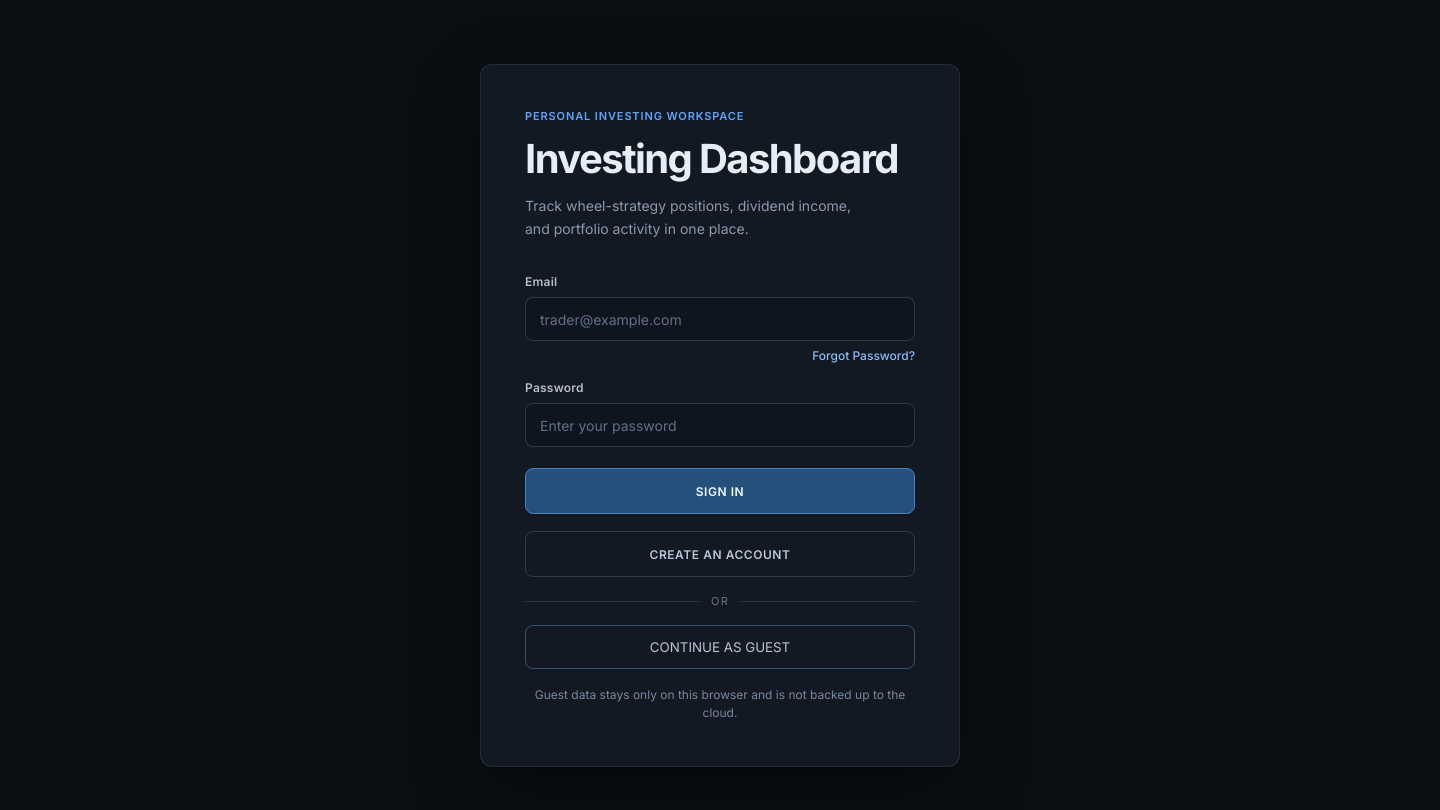
Scenario: renders the neutral success message after an accepted reset request
The image size is (1440, 810).
Step 1. Click the button "Forgot Password?" → (864, 356), box [812,348,915,363]
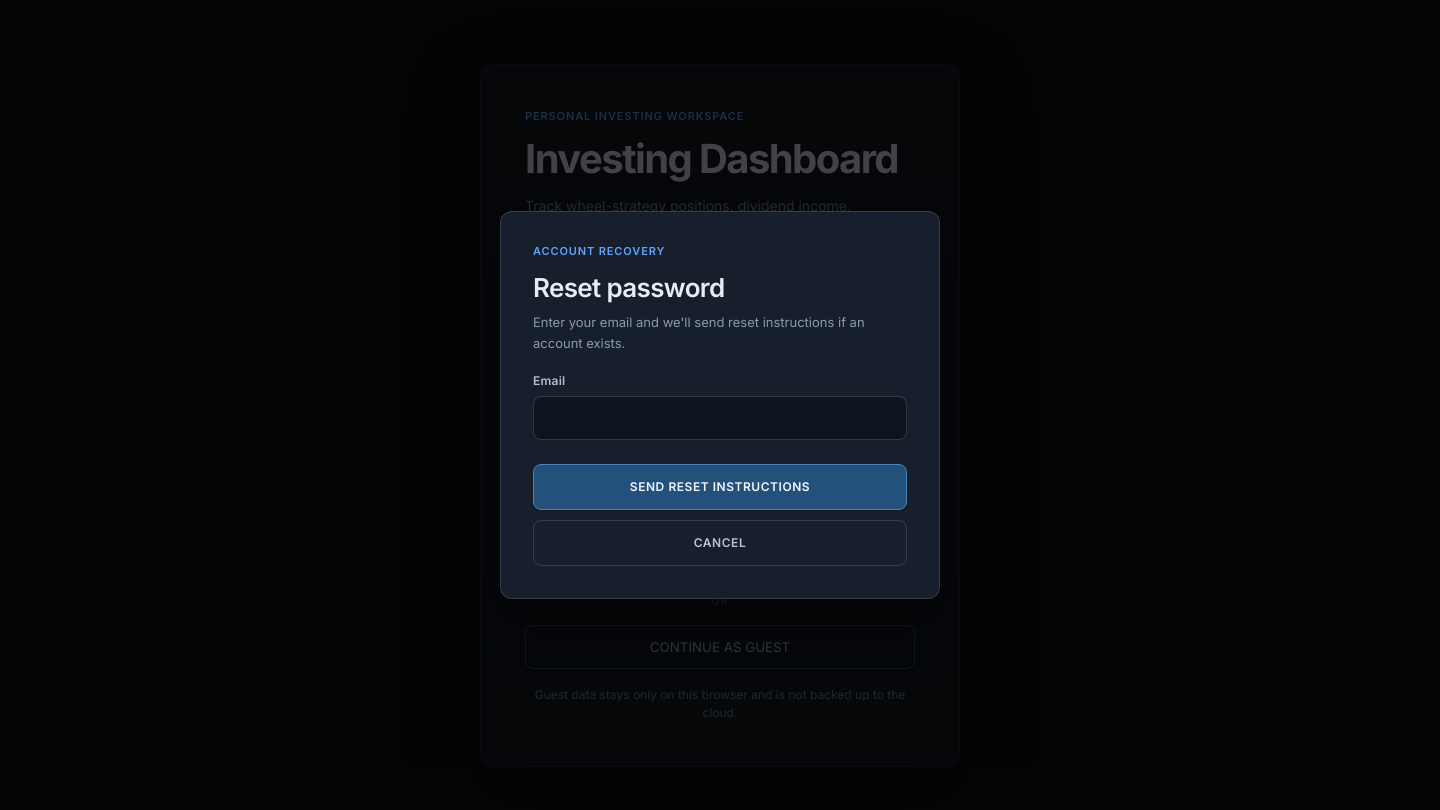
Step 2. Type "unknown@example.com" into the field labelled "Email" → (720, 418), box [533,396,907,440]
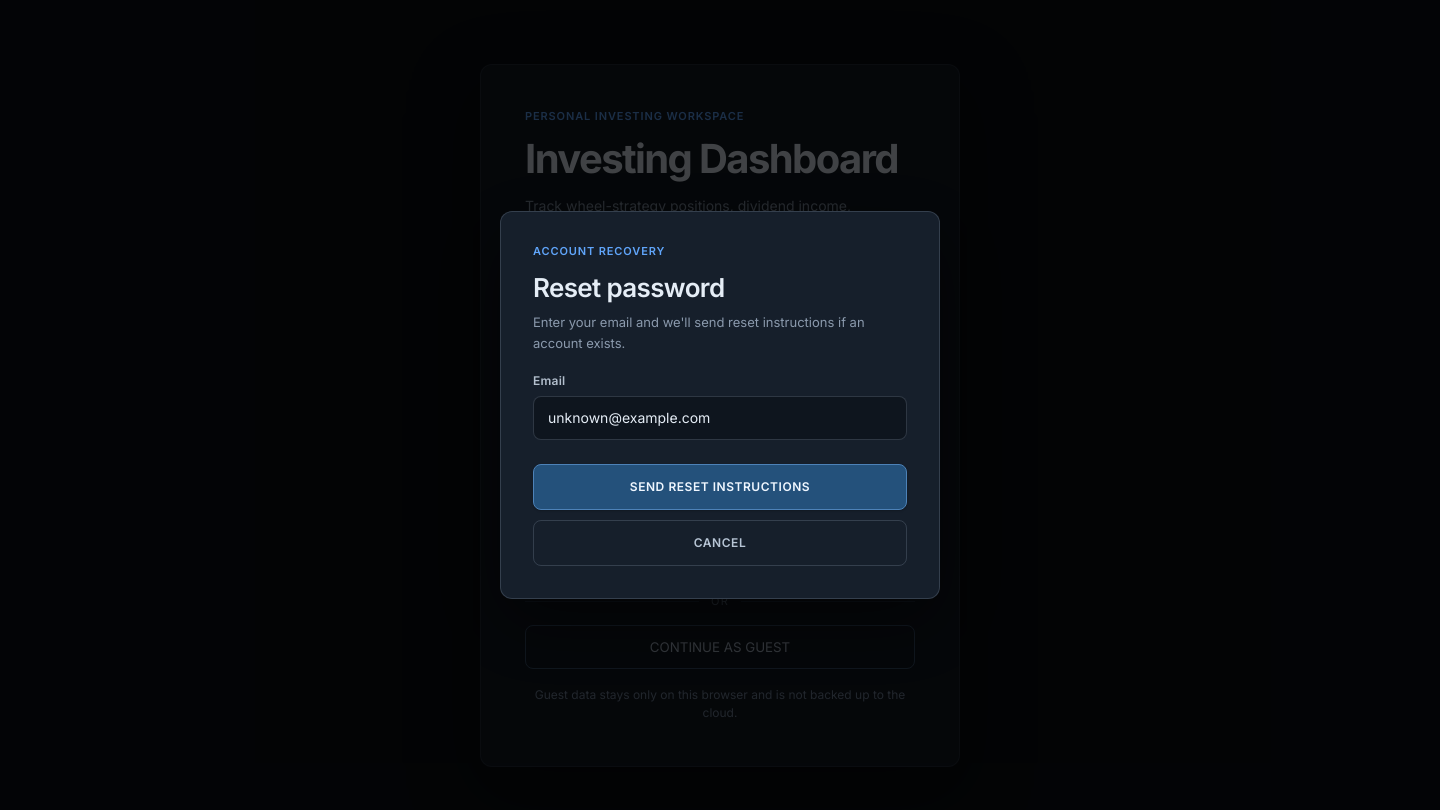
Step 3. Click the button "SEND RESET INSTRUCTIONS" → (720, 487), box [533,464,907,510]
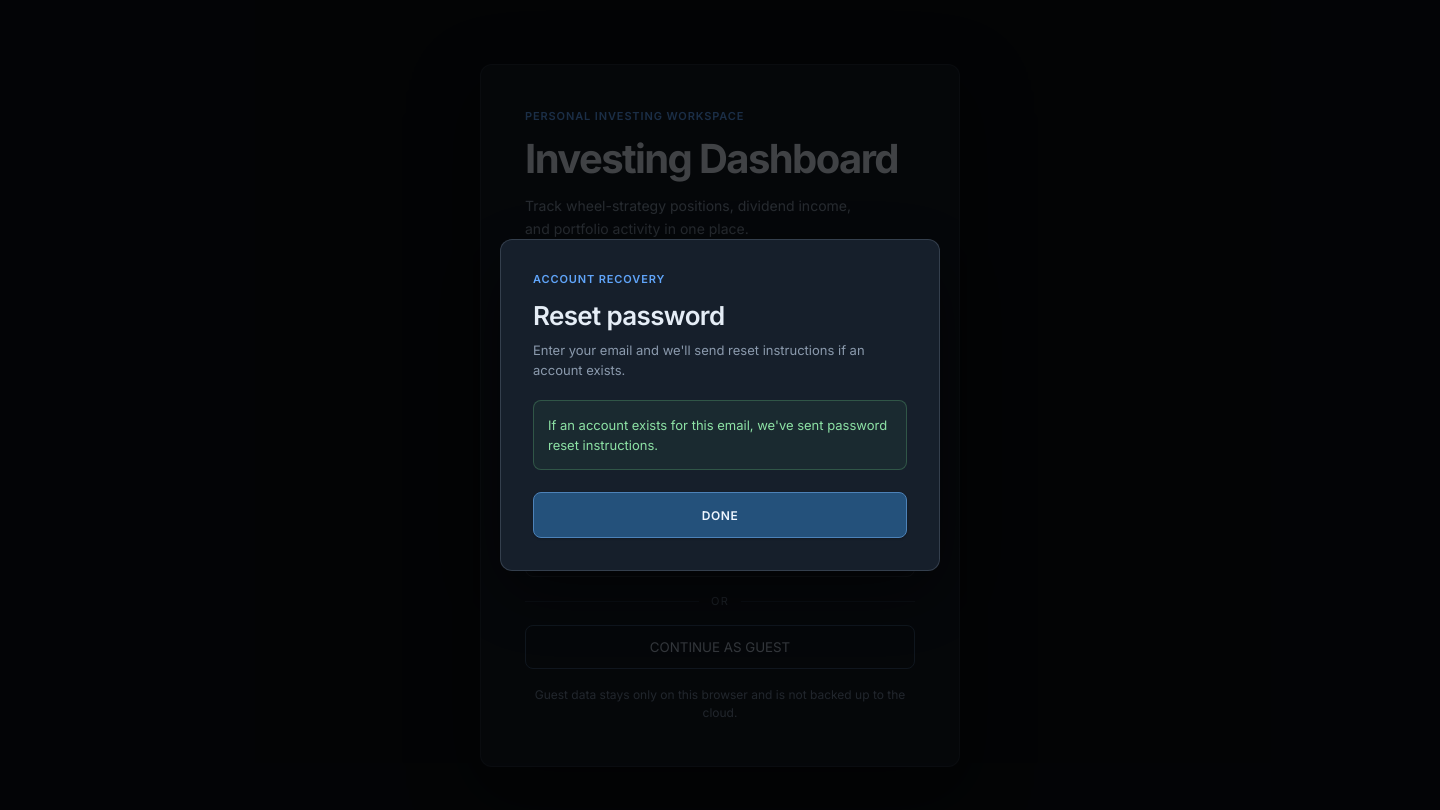
Now the message reads "If an account exists for this email, we've sent password reset instructions.", box [548,417,887,453]
